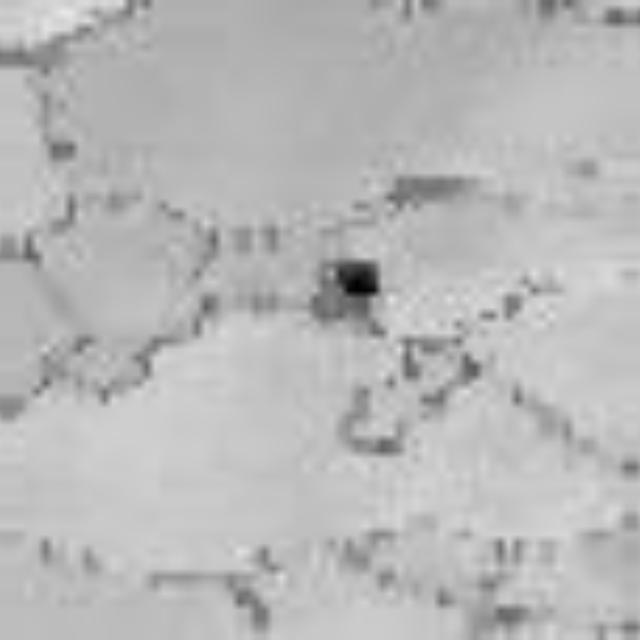good_void: (311, 246, 398, 336)
